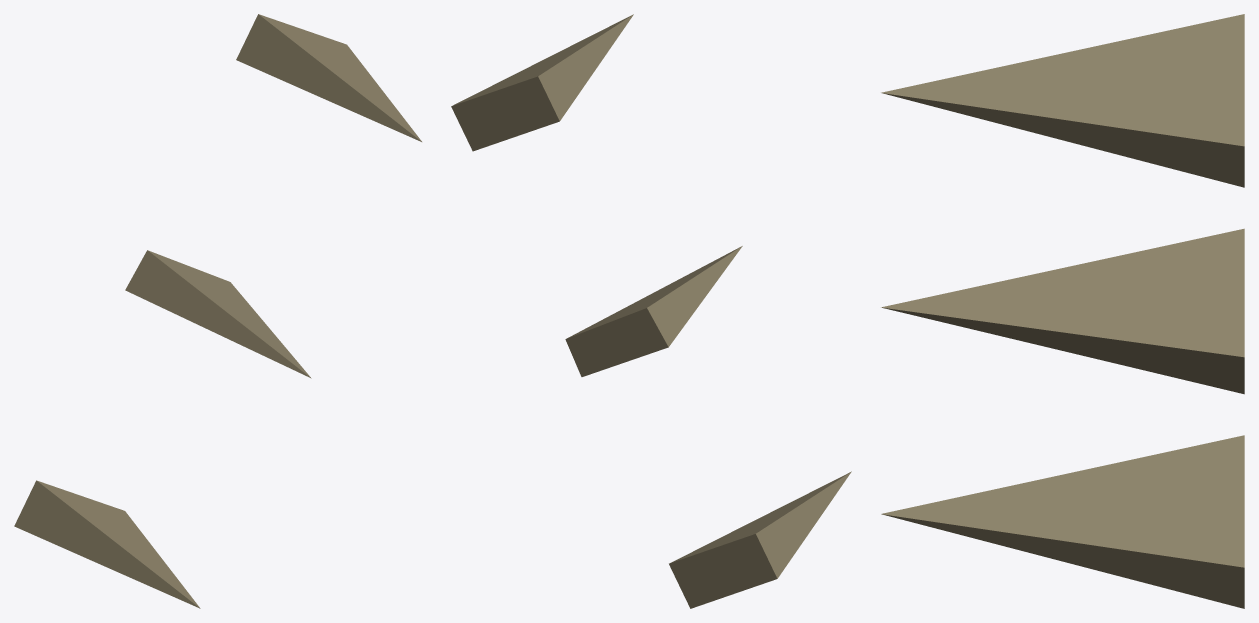
File: obj_timber_defence_2_0.obj
3 renders of one model, left to right at view 1: azimuth 30°, elevation 25°; view 2: azimuth 150°, elevation 25°; view 3: azimuth 270°, elevation 25°, orthographic. The views are drawn at different scales.
Size of the model in its own units: 0.4688 by 0.6797 by 0.3203.
